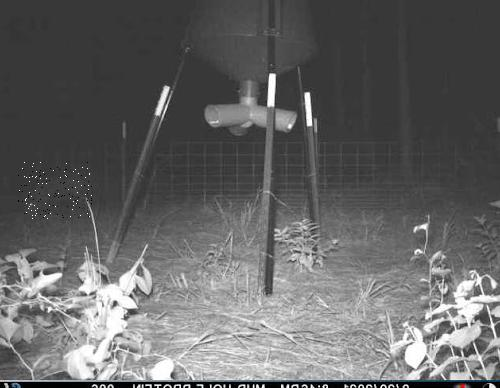Hog: (18, 162, 92, 219)
